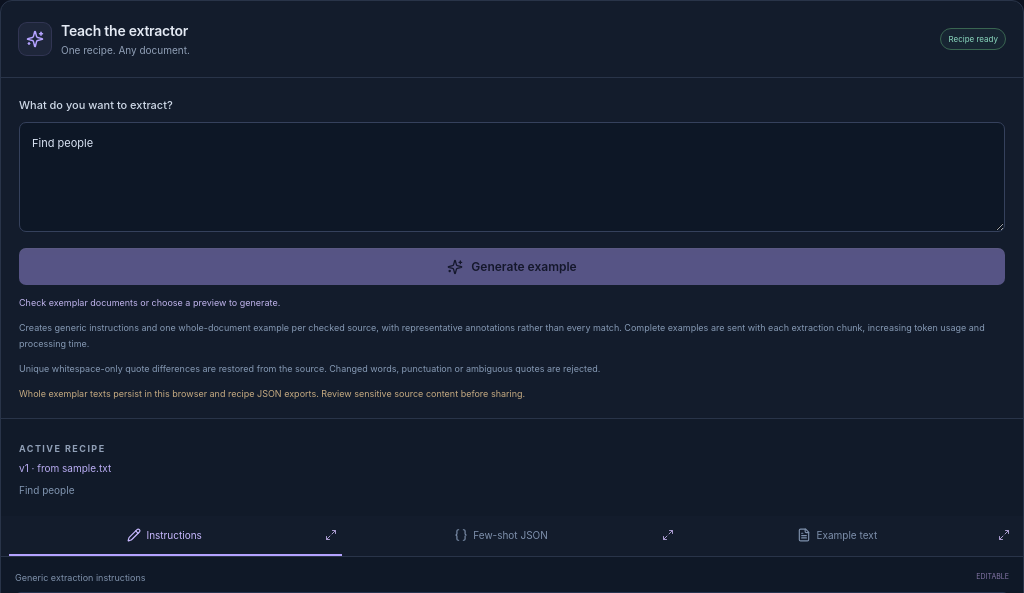
opens Example text in the full-page recipe view
Click the button named "Expand Example text".
click(1004, 536)  # box [993,516,1015,554]
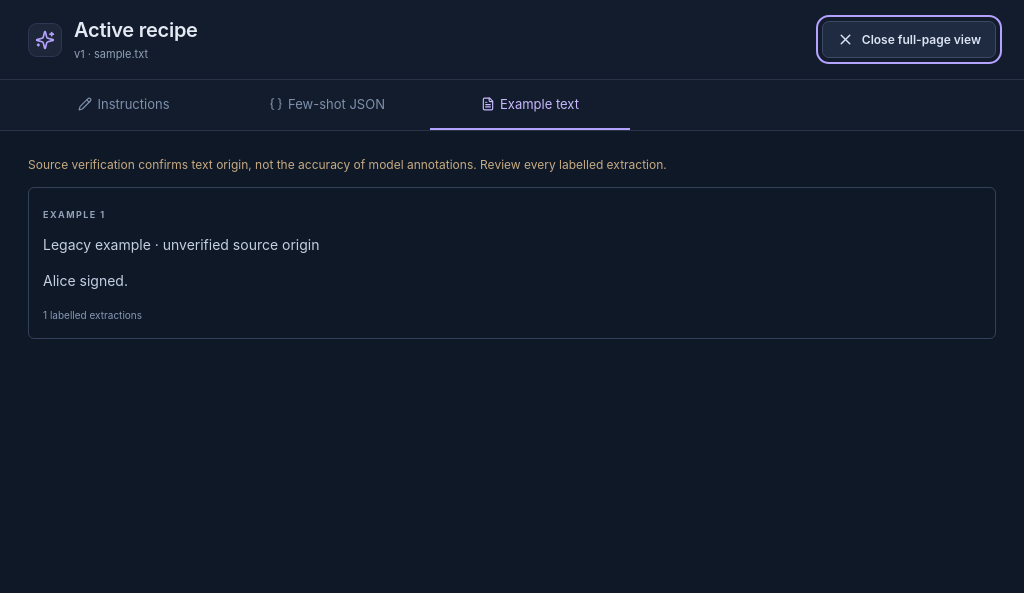
Check: the text "Alice signed." is shown, box [43,272,128,289]
Check: the button "Close full-page view" is shown, box [822,21,996,58]
